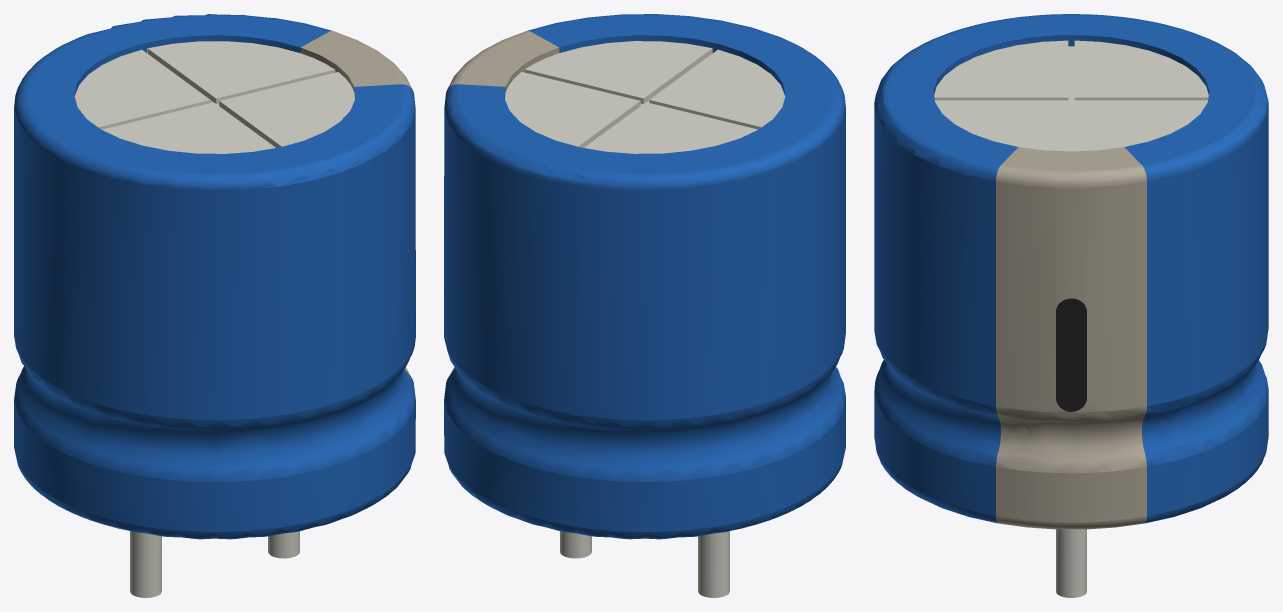
File: kc-cp_radial_d6.3mm_p2.50mm.glb
The picture shows the model from 3 angles, left to right: view 1: azimuth 30°, elevation 25°; view 2: azimuth 150°, elevation 25°; view 3: azimuth 270°, elevation 25°; orthographic projection.
Visible parts, largest first — view 1: 0_0.16666666666666666_0.5_0, 0.6666666666666666_0.6666666666666666_0.5833333333333334_0.8, 0.4166666666666667_0.4166666666666667_0.3333333333333333_0; view 2: 0_0.16666666666666666_0.5_0, 0.6666666666666666_0.6666666666666666_0.5833333333333334_0.8, 0.4166666666666667_0.4166666666666667_0.3333333333333333_0; view 3: 0_0.16666666666666666_0.5_0, 0.4166666666666667_0.4166666666666667_0.3333333333333333_0, 0.6666666666666666_0.6666666666666666_0.5833333333333334_0.8, 0_0_0_0.
Part boxes in pixels (x1,y1,x2,y2): 0_0.16666666666666666_0.5_0: (14,14,415,539); 0.6666666666666666_0.6666666666666666_0.5833333333333334_0.8: (74,41,354,597); 0.4166666666666667_0.4166666666666667_0.3333333333333333_0: (300,31,411,375); 0_0.16666666666666666_0.5_0: (444,14,845,539); 0.6666666666666666_0.6666666666666666_0.5833333333333334_0.8: (505,41,785,597); 0.4166666666666667_0.4166666666666667_0.3333333333333333_0: (447,30,559,375); 0_0.16666666666666666_0.5_0: (874,14,1268,523); 0.4166666666666667_0.4166666666666667_0.3333333333333333_0: (996,147,1146,529); 0.6666666666666666_0.6666666666666666_0.5833333333333334_0.8: (934,40,1208,597); 0_0_0_0: (1056,298,1086,411).
Bounding box in the file's own units: 0.63 × 0.83 × 0.6299.
